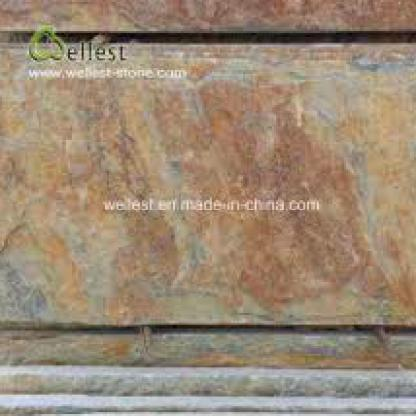Metamorphic_Quartize: (0, 39, 414, 332)
